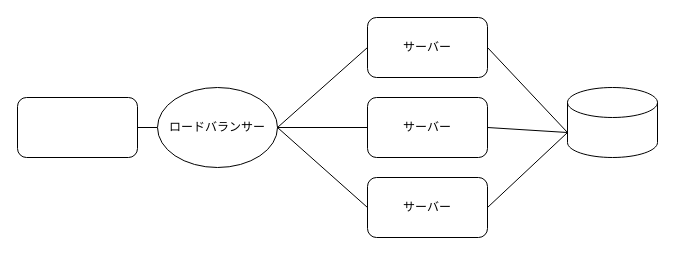
Some shapes in this 675 by 255 pixel diagram are drawn without their labels. The shapes that lost their labels are listed below. From the top down, each one's box as (x1, y1, x2, y2) in pixels, then its label:
(16, 96, 138, 158): クライアント
(566, 86, 658, 158): DB
